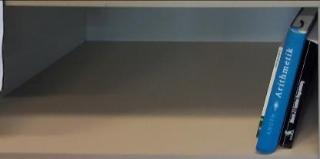book-spine: (255, 26, 307, 156), (278, 39, 318, 150), (255, 47, 284, 138)
